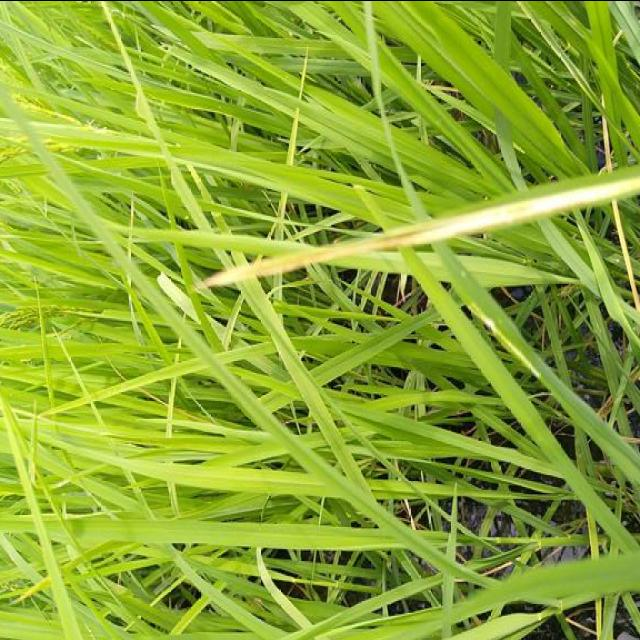Leaf Blight: (203, 163, 640, 286)
